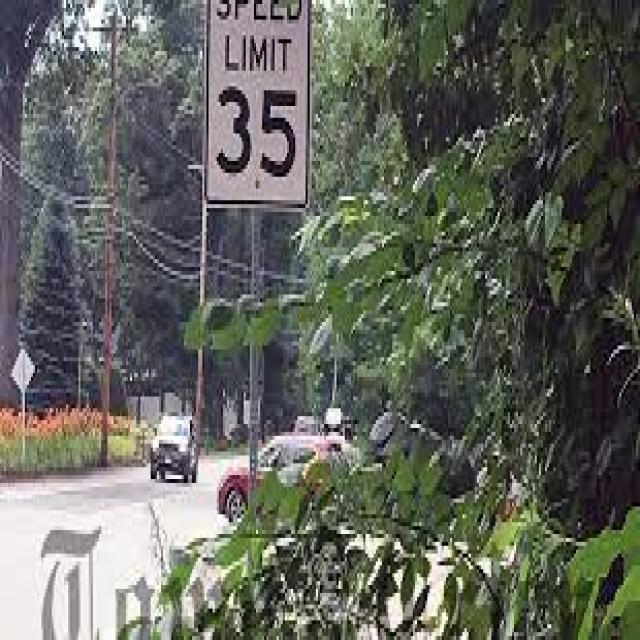speedLimit35: (201, 10, 307, 198)
